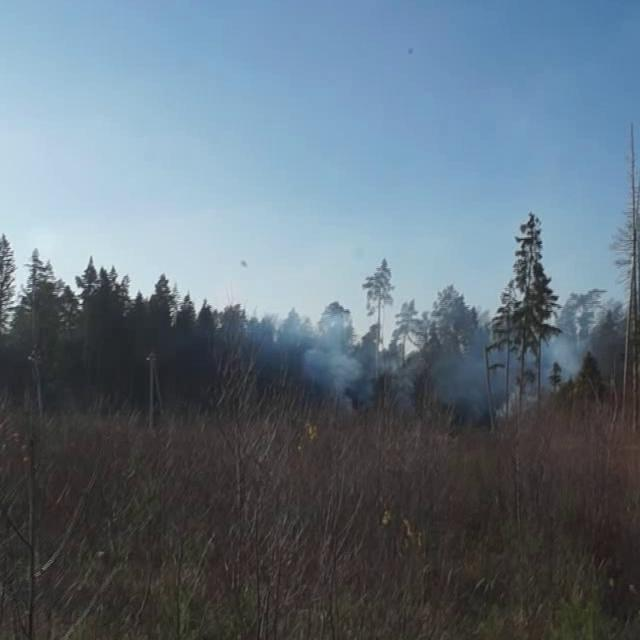Smoke: (238, 300, 632, 431)
